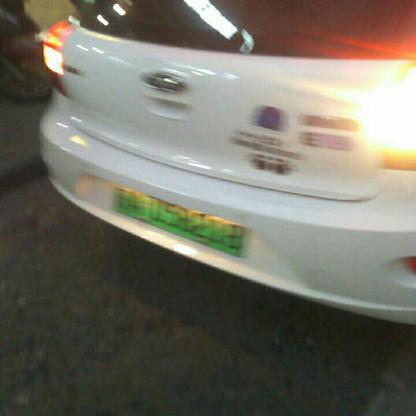lp: (112, 185, 241, 255)
